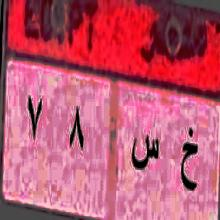7: (20, 90, 46, 155)
8: (66, 99, 88, 157)
khaa: (174, 123, 202, 206)
seen: (126, 129, 163, 180)
